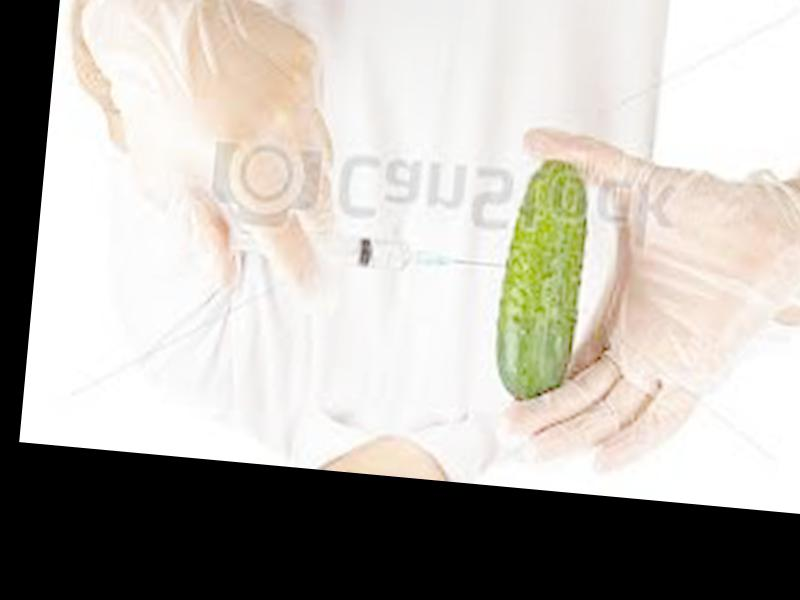Cucumber: (493, 158, 595, 411)
